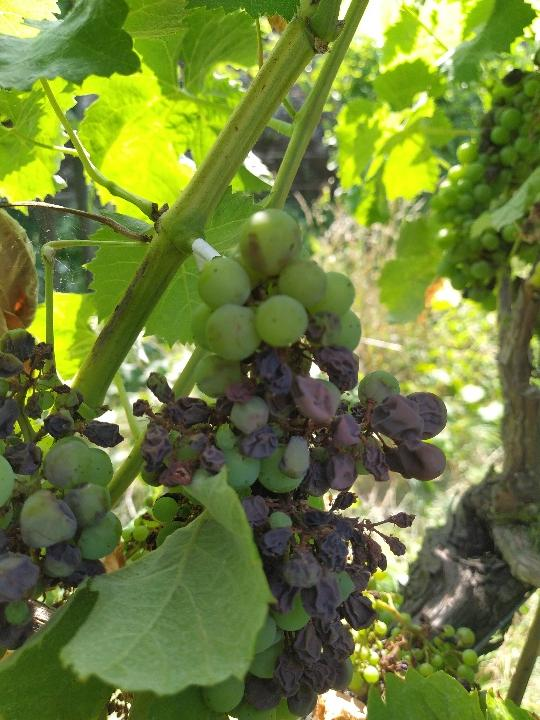grape: (130, 203, 453, 717), (434, 68, 536, 304)
